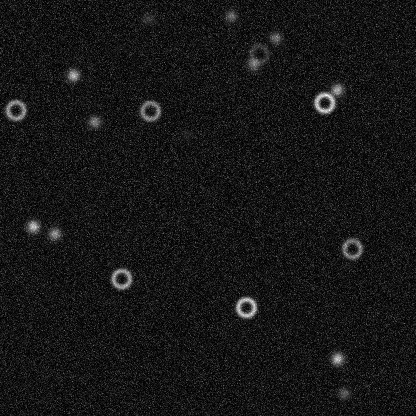Ring: (247, 41, 271, 65), (109, 266, 133, 290), (233, 295, 257, 319), (3, 98, 27, 122), (312, 90, 336, 114), (138, 98, 162, 122), (339, 236, 363, 260)
Spot: (25, 218, 41, 234), (178, 126, 194, 142), (245, 56, 261, 72), (86, 113, 102, 129), (139, 10, 155, 26), (65, 67, 81, 83), (329, 350, 345, 366), (267, 29, 283, 45), (328, 81, 344, 97), (222, 8, 238, 24), (46, 225, 62, 241), (335, 385, 351, 401)
